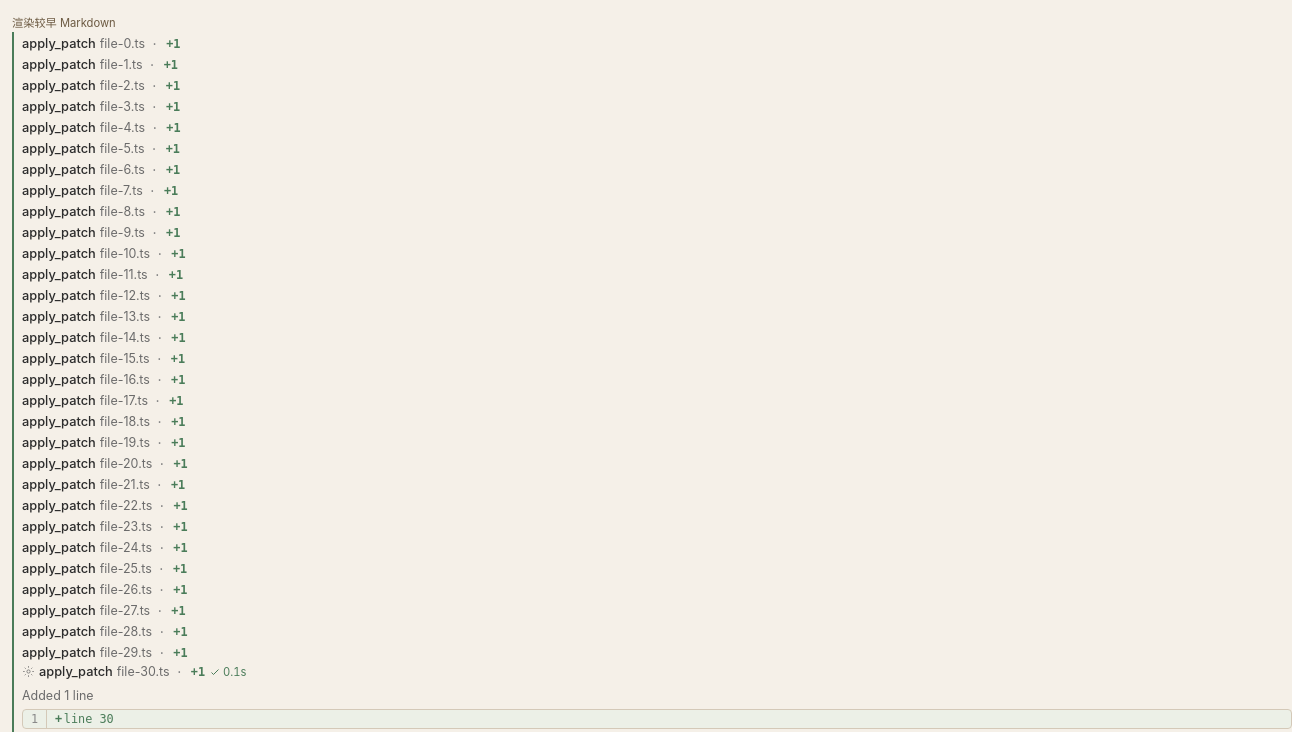
it: EventTimeline › keeps every tool summary but auto-opens only the newest 4 diff details beyond the extreme threshold
Click the button "apply_patch file-0.ts +1": {"x": 101, "y": 44} [22,34,180,53]
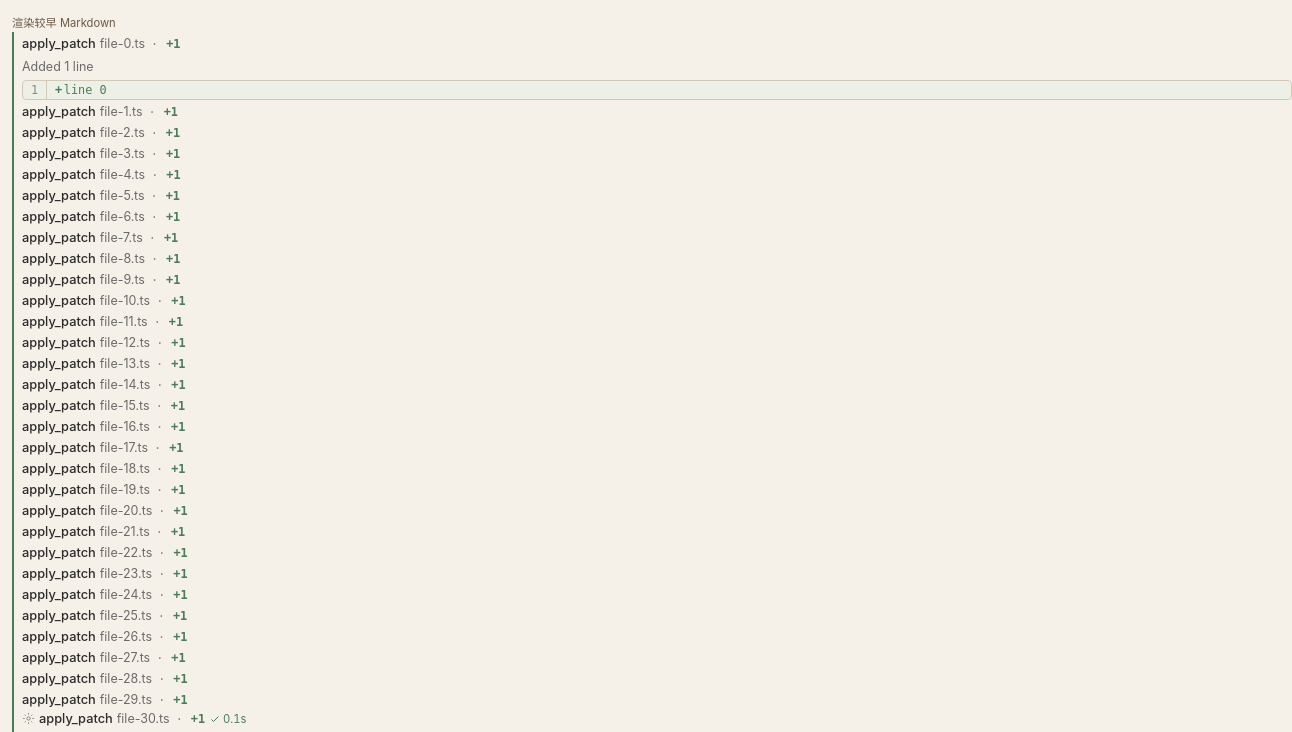
Result: the number of elements with class "cc-tool__diff-line" is 5
